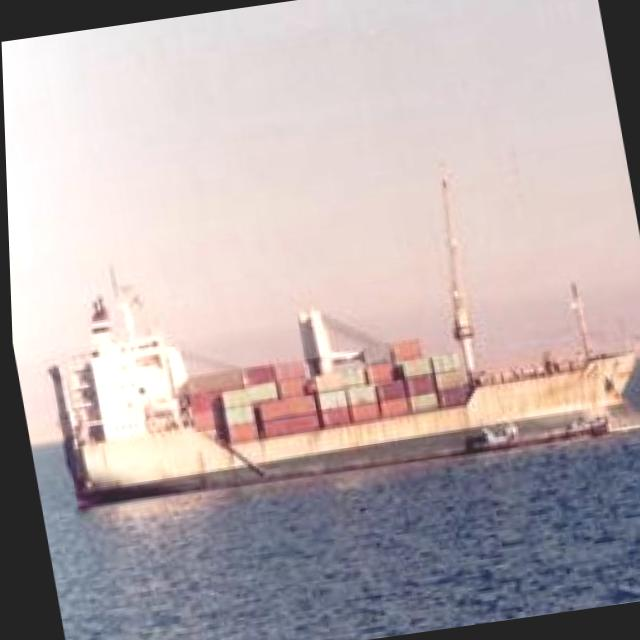ship2: (42, 161, 640, 500)
